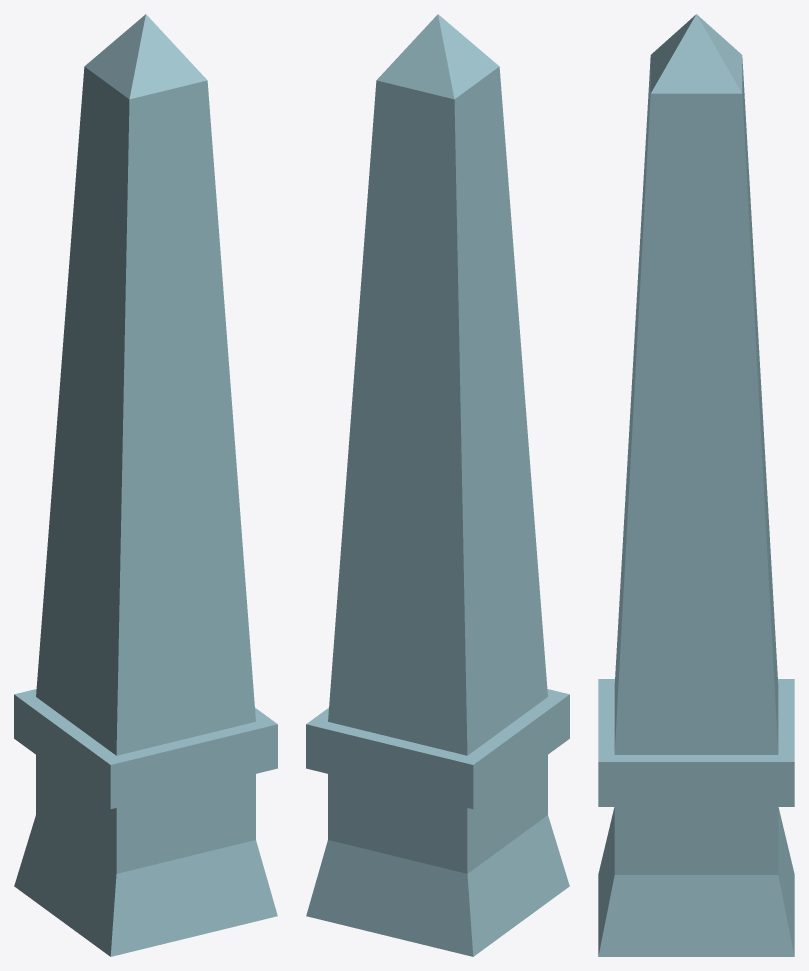
File: pillarObelisk.dae
3 views of the same model, side by side, from view 1: azimuth 30°, elevation 25°; view 2: azimuth 150°, elevation 25°; view 3: azimuth 270°, elevation 25° (orthographic).
Visible parts, largest first — view 1: pillarObelisk; view 2: pillarObelisk; view 3: pillarObelisk.
Boxes of the visible parts, x1,y1,x2,y2 form: pillarObelisk: (14,14,277,956); pillarObelisk: (306,14,569,956); pillarObelisk: (598,14,794,956).
Size of the model in its own units: 0.2062 by 1.05 by 0.2062.
